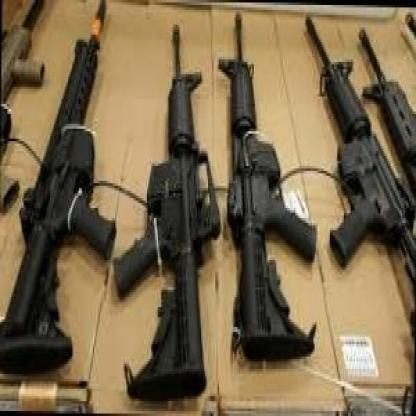rifle: (112, 10, 222, 401), (219, 2, 316, 369)
